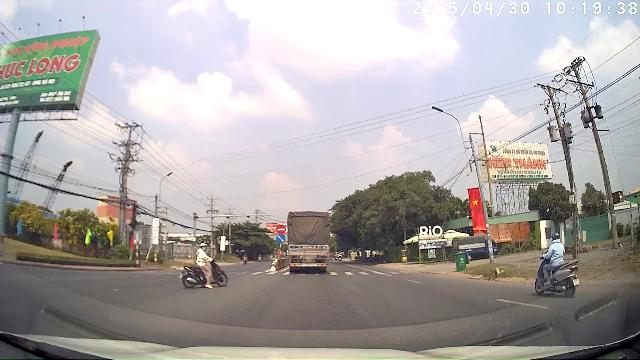102-cam-di-nguoc-chieu: (276, 225, 286, 233)
302a-huong-phai-di-vong-chuong-ngai-vat-1: (276, 234, 285, 243)
